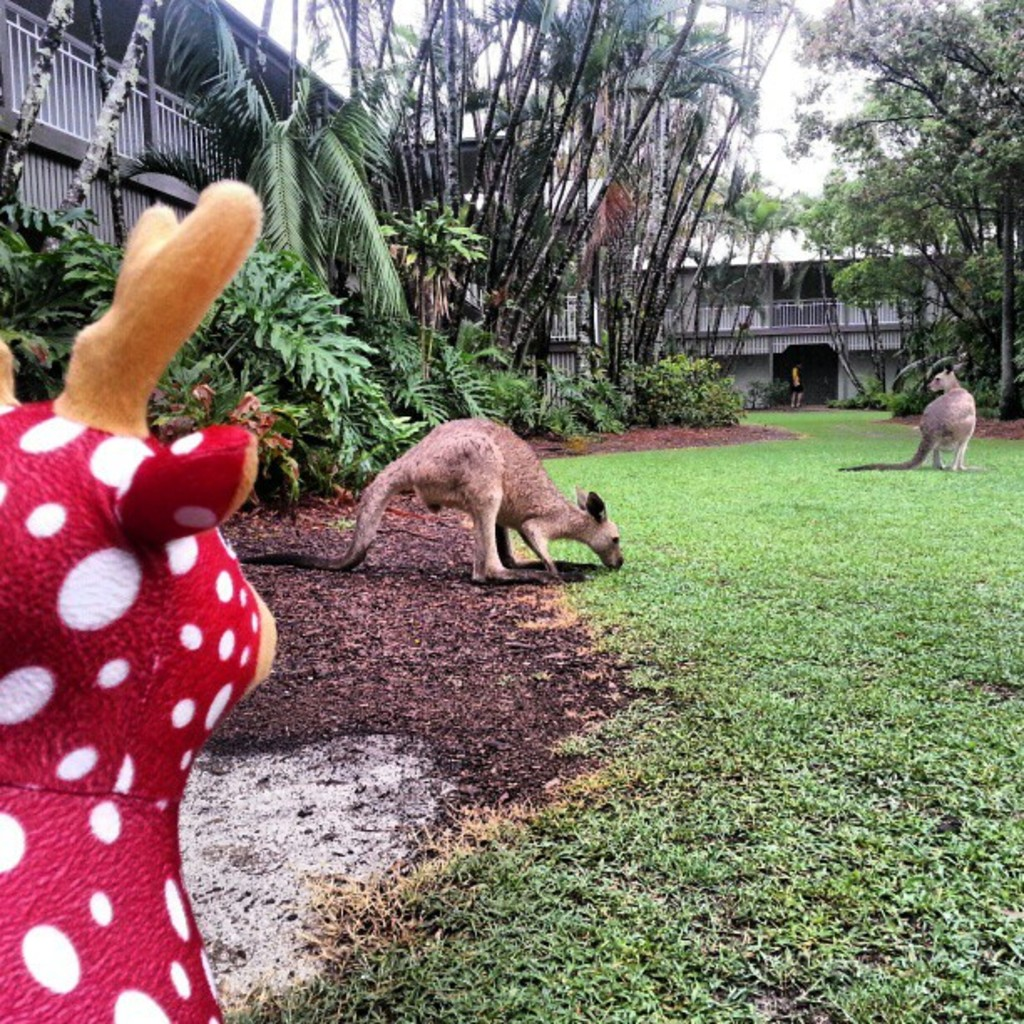kangaroo: (334, 423, 635, 588), (826, 364, 972, 476)
